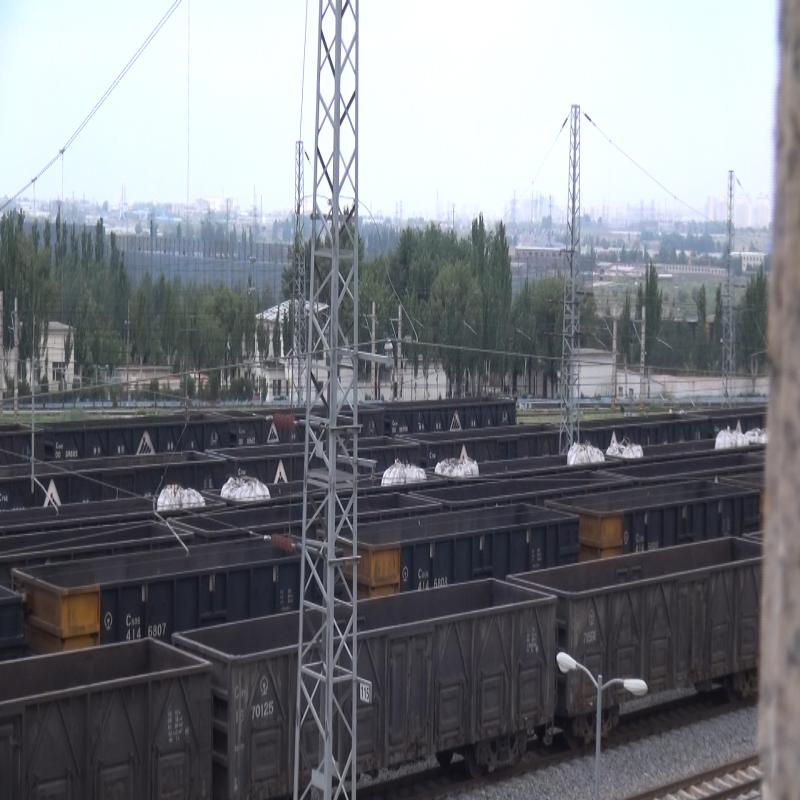train: (219, 613, 548, 743), (557, 565, 758, 715)
